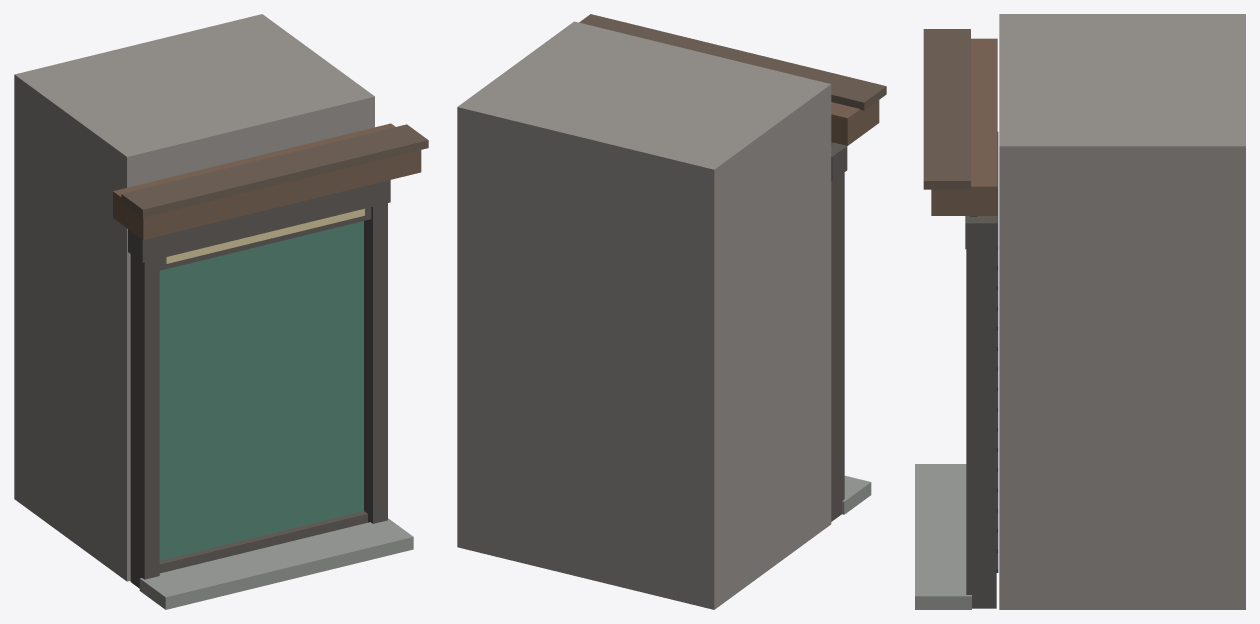
The model's file is prop_shutter_shop_fukamidori.glb.
3 views of the same model, side by side, from view 1: azimuth 30°, elevation 25°; view 2: azimuth 150°, elevation 25°; view 3: azimuth 270°, elevation 25° (orthographic). The views are drawn at different scales.
Visible parts, largest first — view 1: shutter_shop_fukamidori; view 2: shutter_shop_fukamidori; view 3: shutter_shop_fukamidori.
Boxes of the visible parts, x1,y1,x2,y2 form: shutter_shop_fukamidori: [14, 14, 428, 609]; shutter_shop_fukamidori: [457, 14, 886, 609]; shutter_shop_fukamidori: [915, 14, 1245, 609].
Size of the model in its own units: 3.8 by 5.4 by 3.49.
